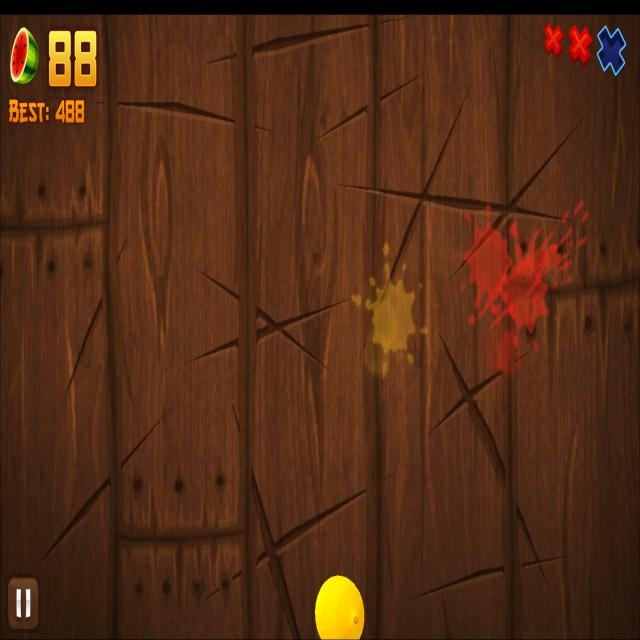fruit: (316, 575, 364, 640)
